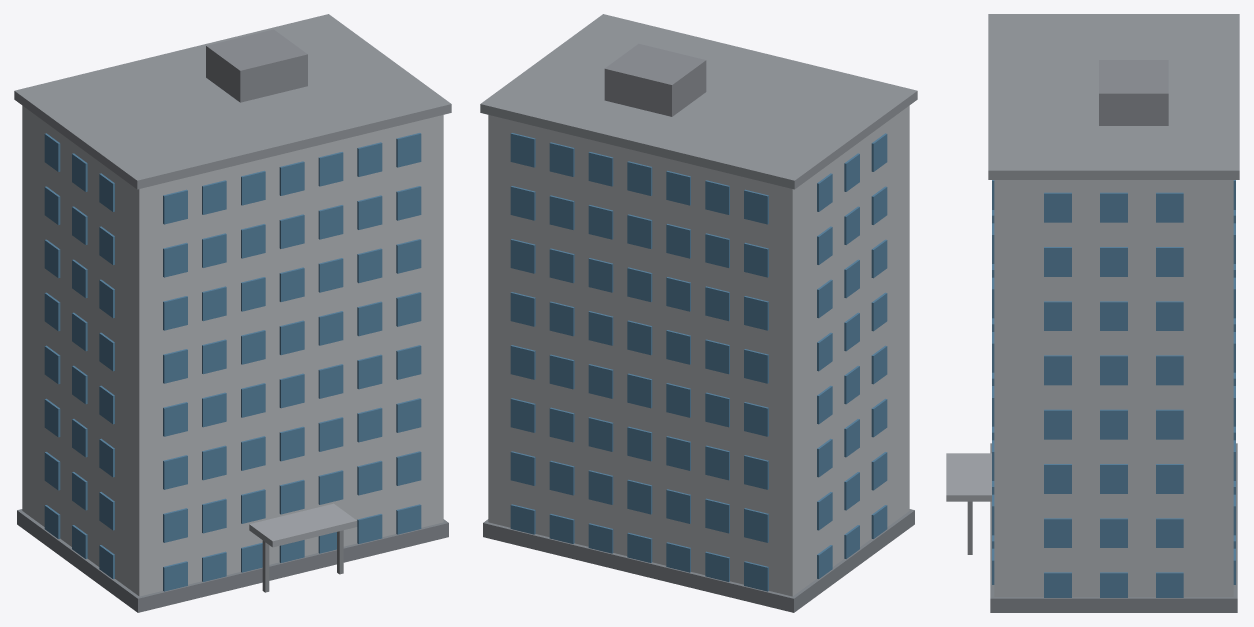
Rendered from office-building.glb.
3 renders of one model, left to right at view 1: azimuth 30°, elevation 25°; view 2: azimuth 150°, elevation 25°; view 3: azimuth 270°, elevation 25°, orthographic. The views are drawn at different scales.
Visible parts, largest first — view 1: sample-building; view 2: sample-building; view 3: sample-building.
Boxes of the visible parts, bbox=[...] form: sample-building: bbox=[14, 14, 451, 612]; sample-building: bbox=[480, 14, 917, 612]; sample-building: bbox=[946, 14, 1239, 612].
Size of the model in its own units: 18.6 by 26.3 by 14.7.
